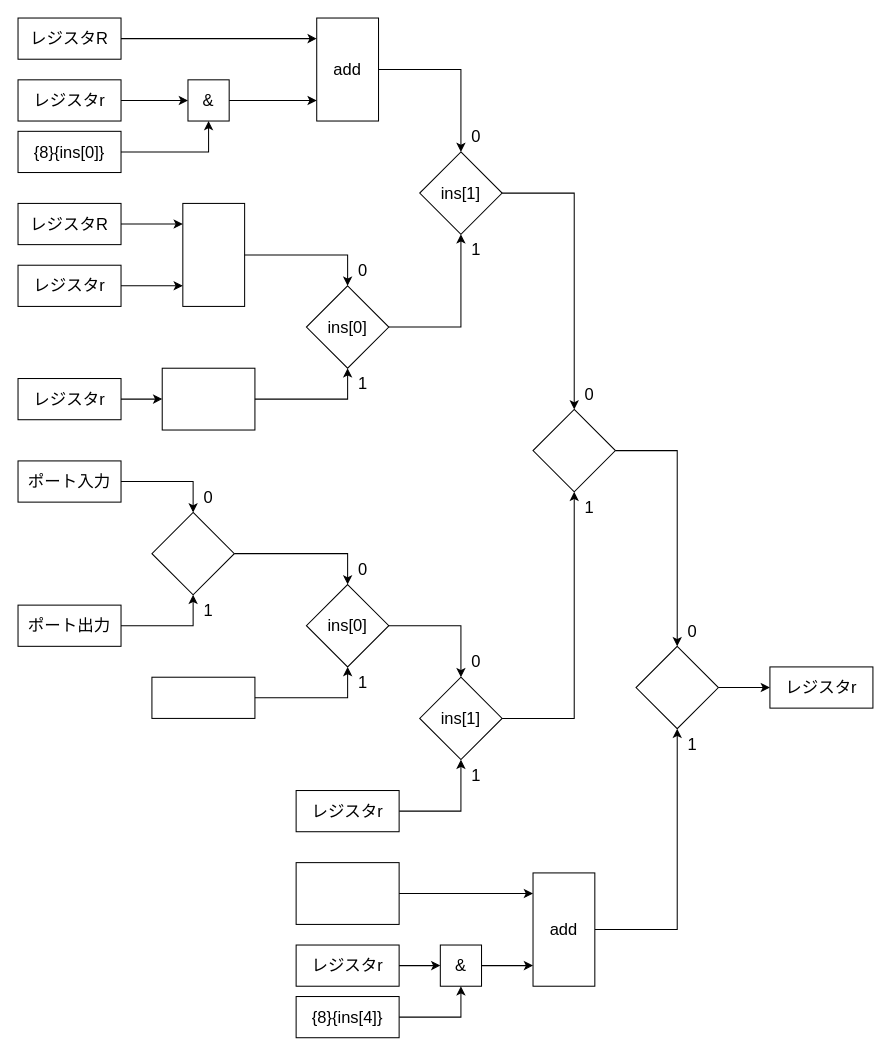
Some shapes in this 891 by 1056 pixel diagram are drawn without their labels. The box of each missing label's shape, as (x1, y1, x2, y2) in pixels:
ins[2]: (151, 511, 234, 595)
ins[3:0] 符号拡張: (295, 862, 399, 924)
ins[4]: (532, 408, 615, 492)
ins[5]: (635, 645, 718, 729)
nand: (182, 202, 245, 306)
PC+1: (151, 676, 255, 718)
shift ins[3:2]: (161, 367, 255, 430)
